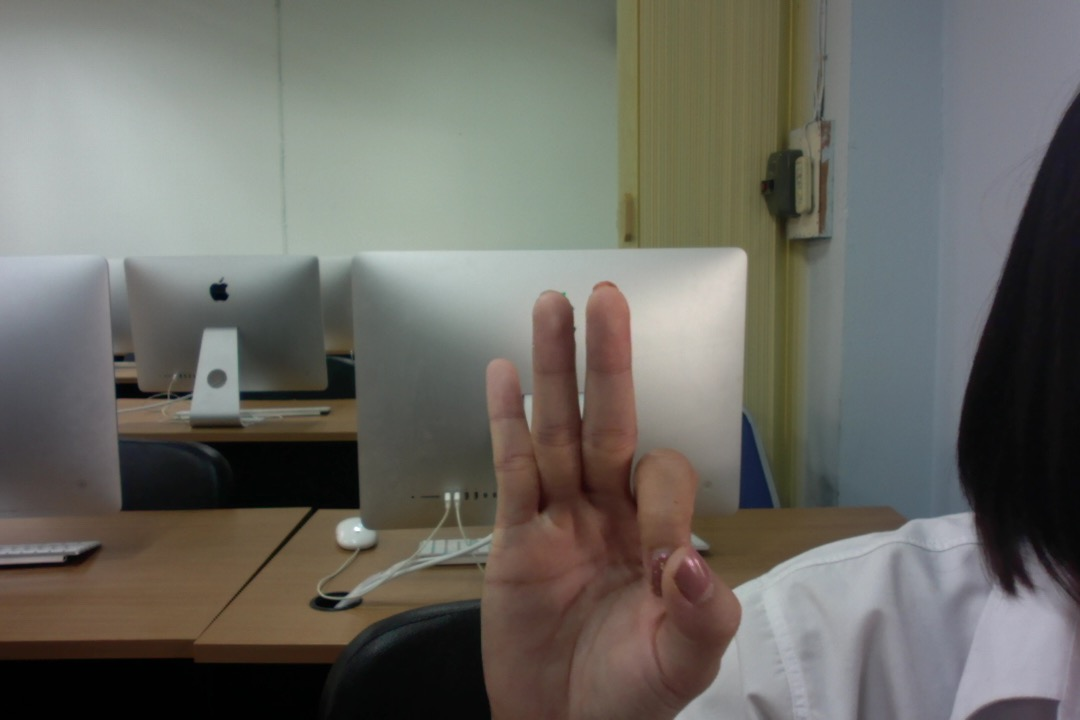for: (468, 264, 749, 719)
